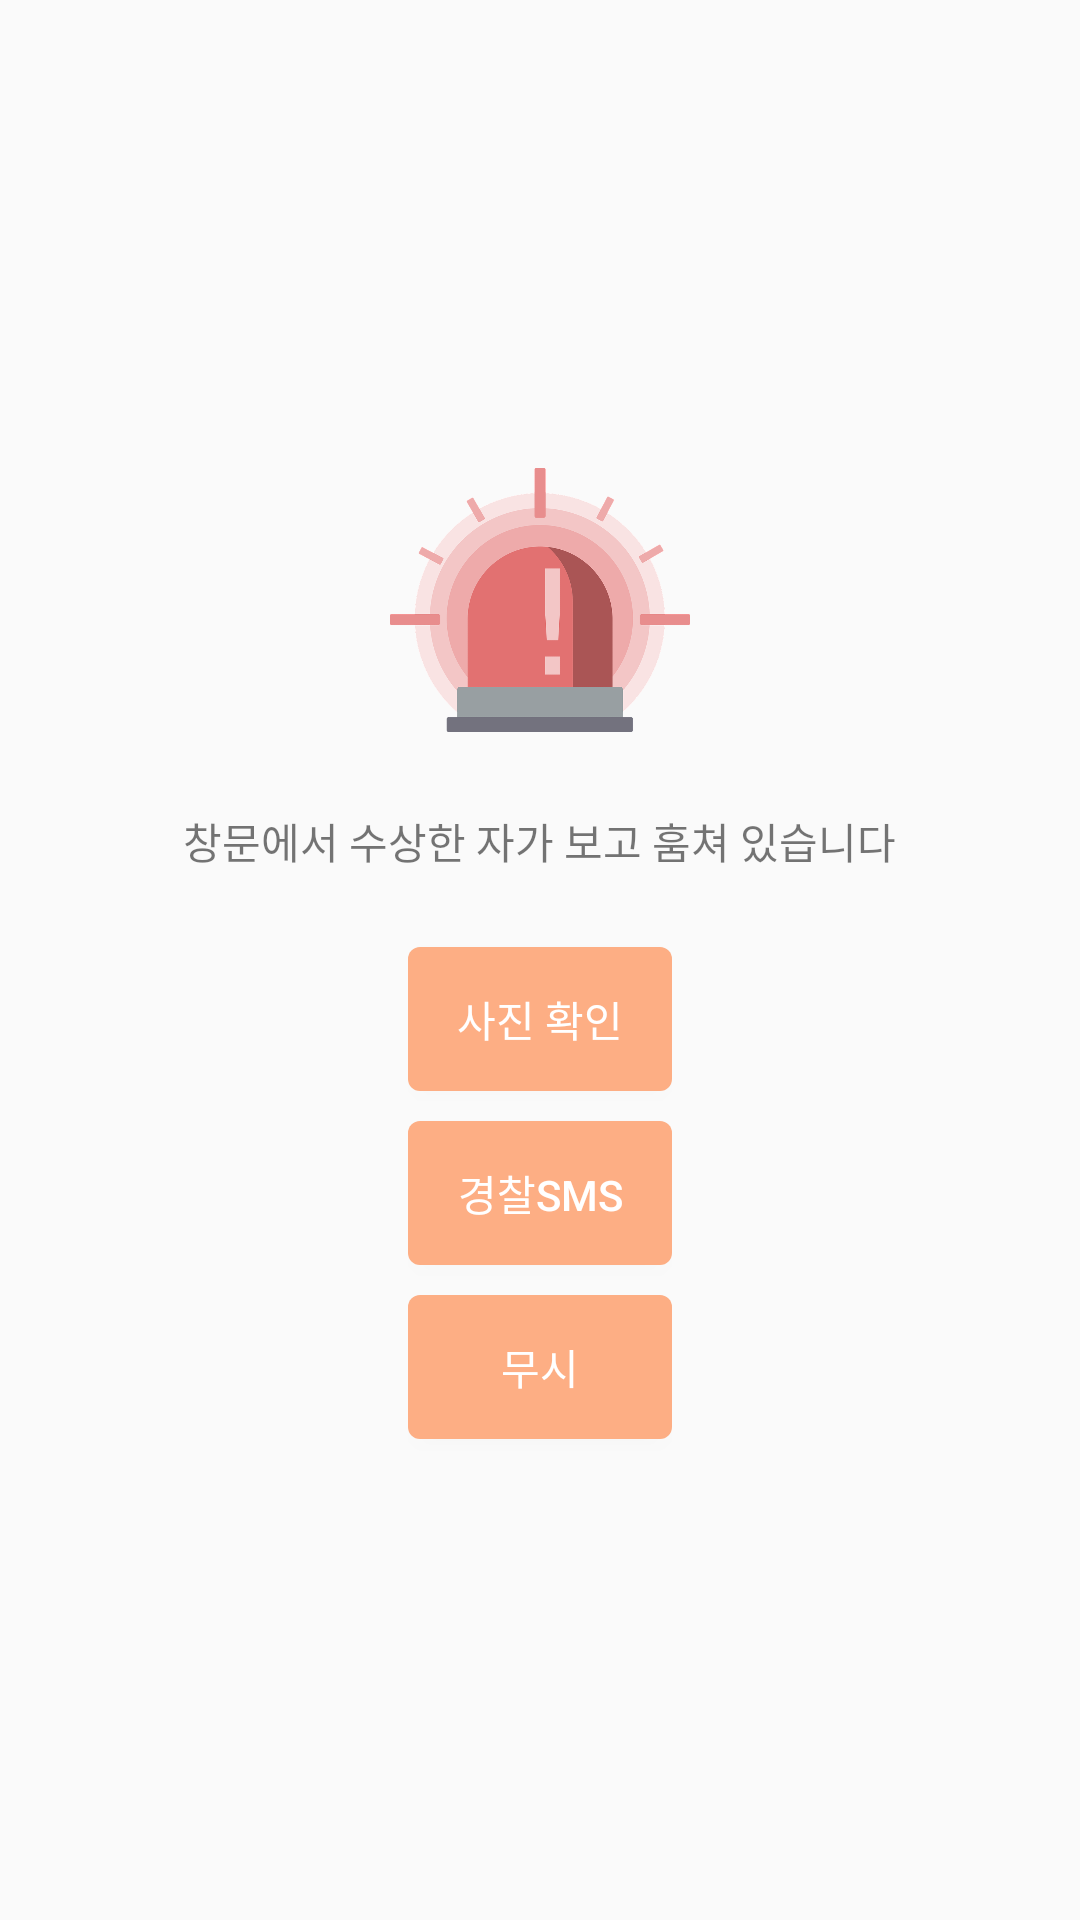

Where to tap for icons on this 1080×1920 app screen, as (x,y):
siren: (540,600)
